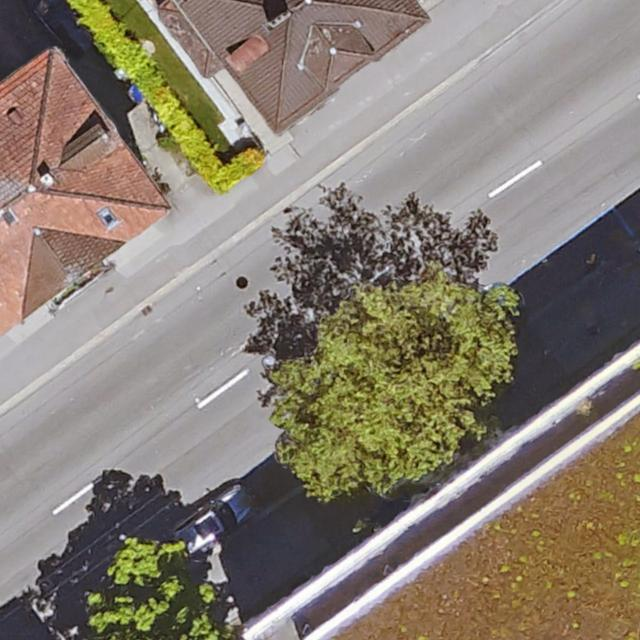tree: (267, 275, 520, 499), (87, 538, 215, 640)
